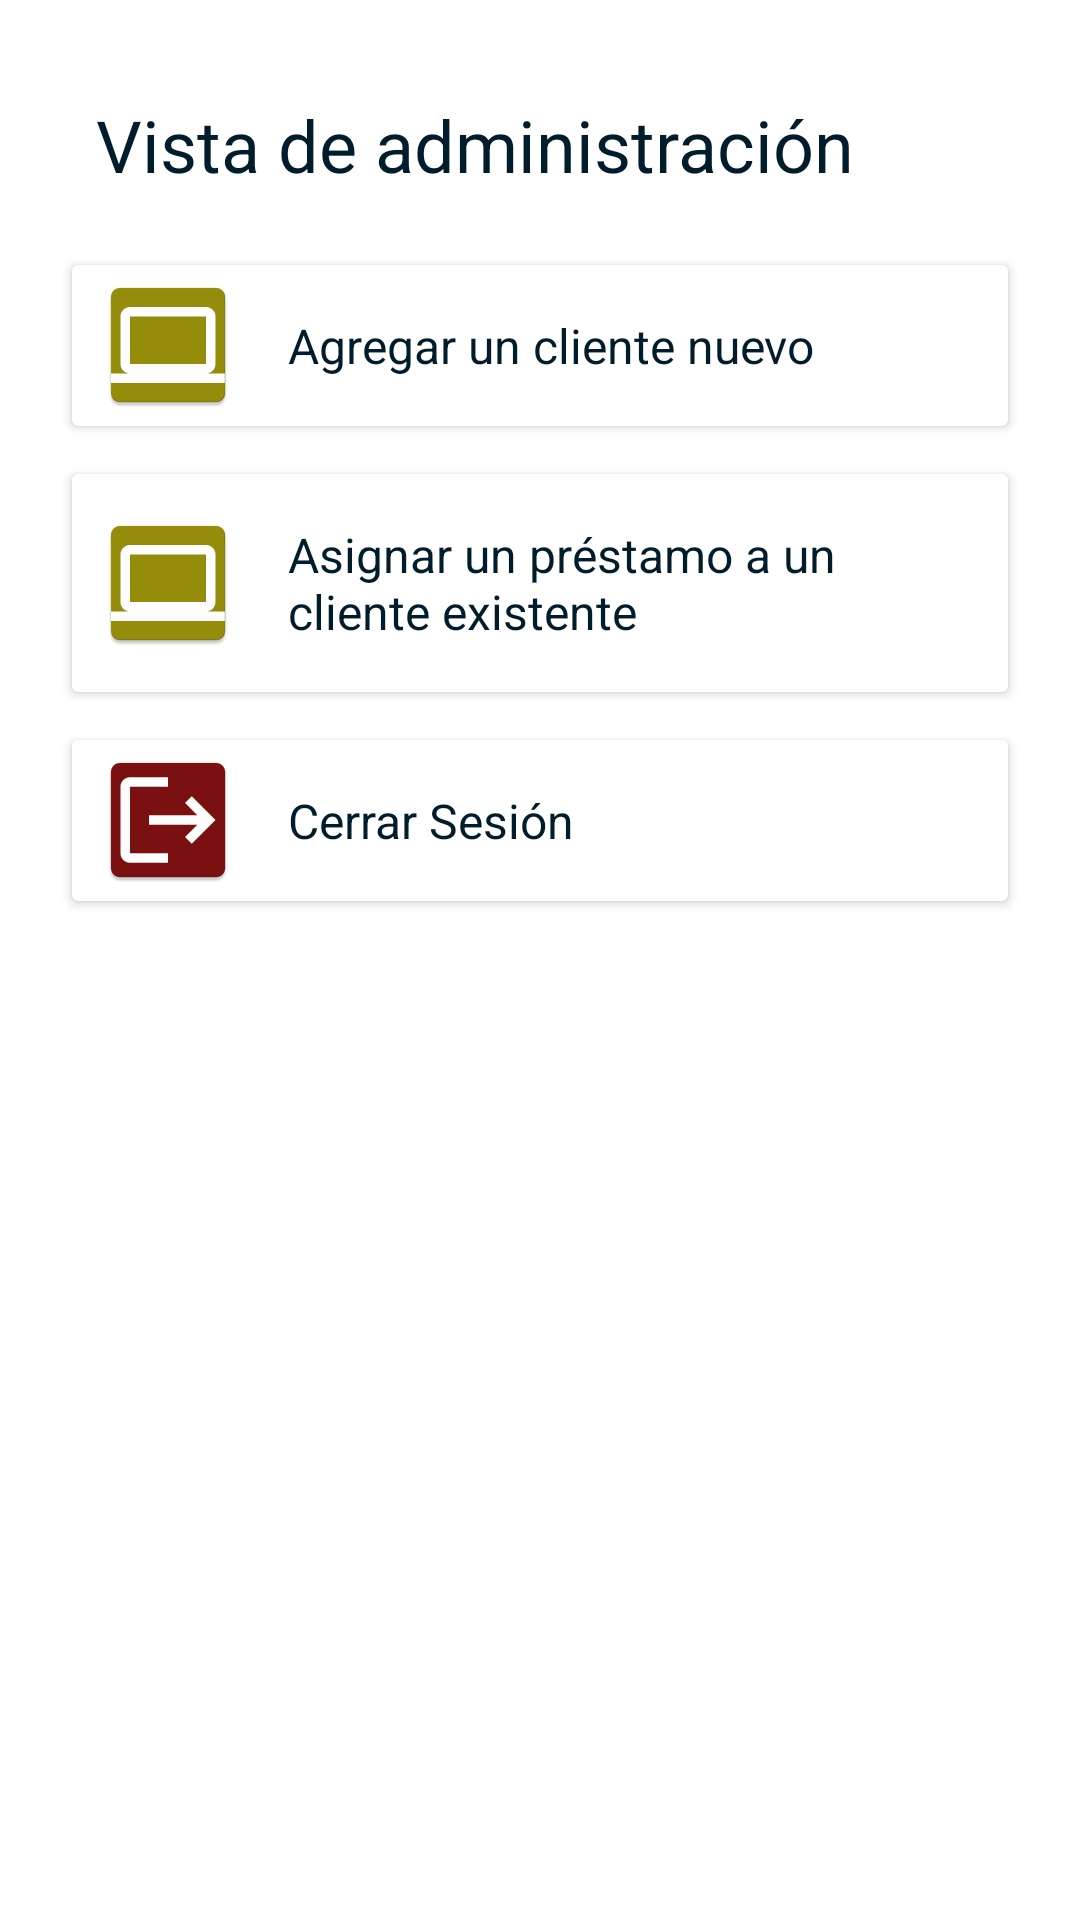

Icon bounding boxes for this 1080px x 1920px phone screenshot, format Rect(x1, y1, x2, y2):
option pc: Rect(110, 287, 226, 406), Rect(110, 525, 226, 644)
